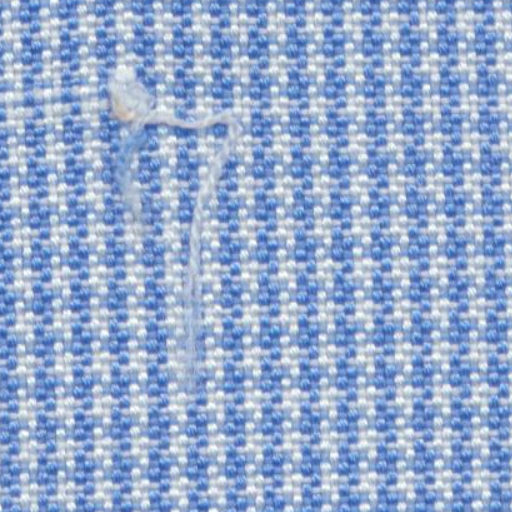DuanSha: (90, 60, 261, 410)
